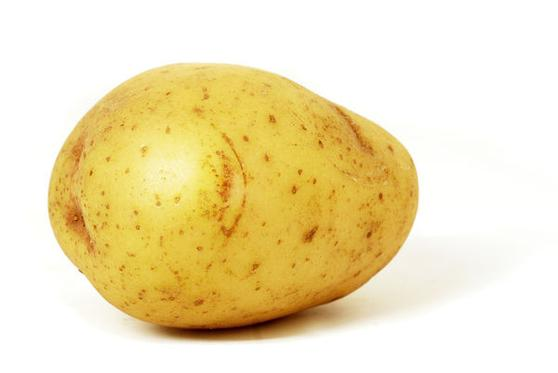potato: (43, 60, 423, 332)
